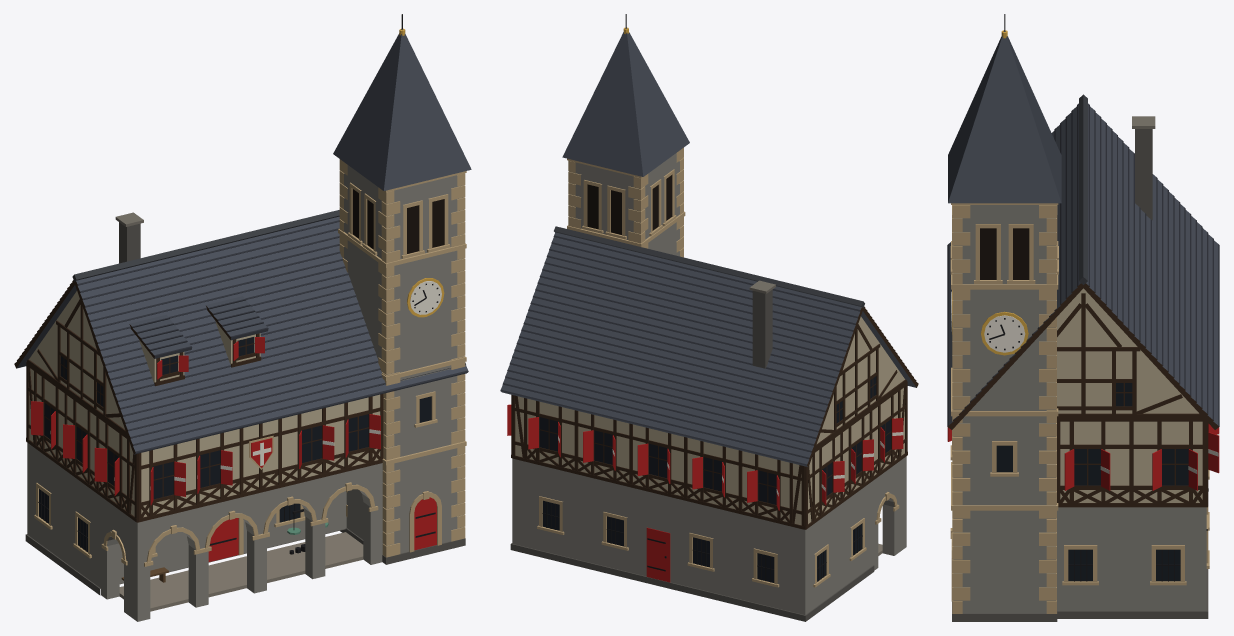
The model's file is rathaus.glb.
3 views of the same model, side by side, from view 1: azimuth 30°, elevation 25°; view 2: azimuth 150°, elevation 25°; view 3: azimuth 270°, elevation 25° (orthographic). The views are drawn at different scales.
Visible parts, largest first — view 1: Haus; view 2: Haus; view 3: Haus.
Part boxes in pixels (<box>): Haus: <box>14,14,471,621</box>; Haus: <box>500,14,918,621</box>; Haus: <box>947,14,1219,621</box>.
Bounding box in the file's own units: 15.96 × 23.6 × 9.94.
